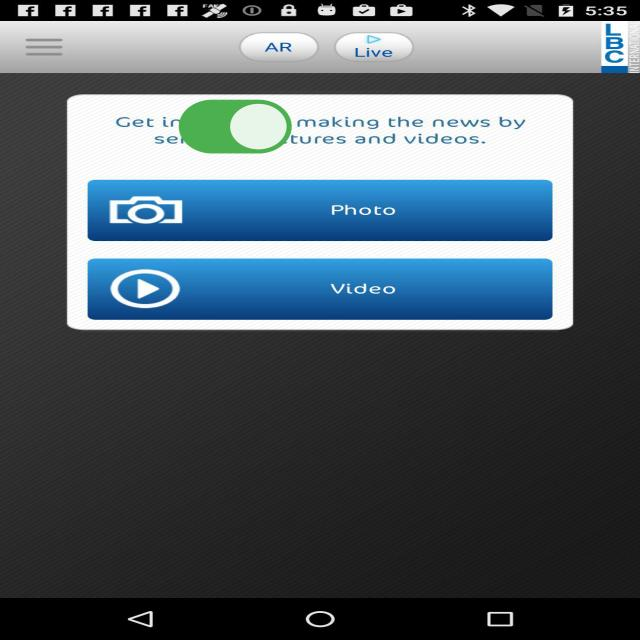social proof: (174, 79, 297, 178)
